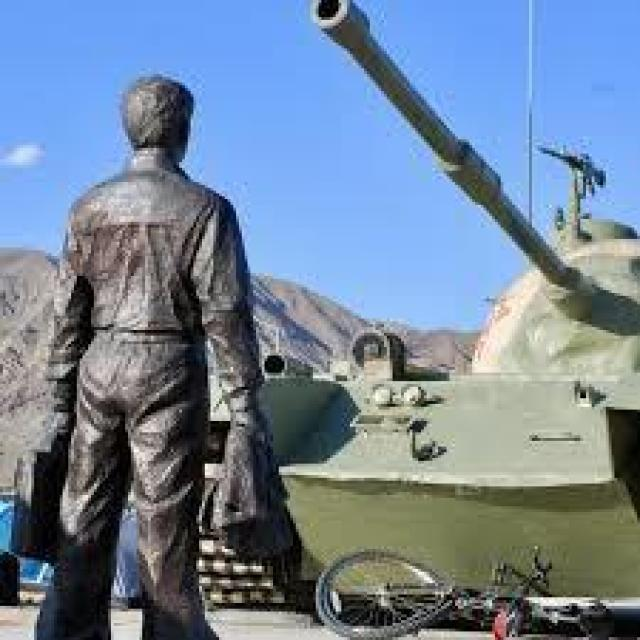Tanks: (205, 8, 572, 623)
